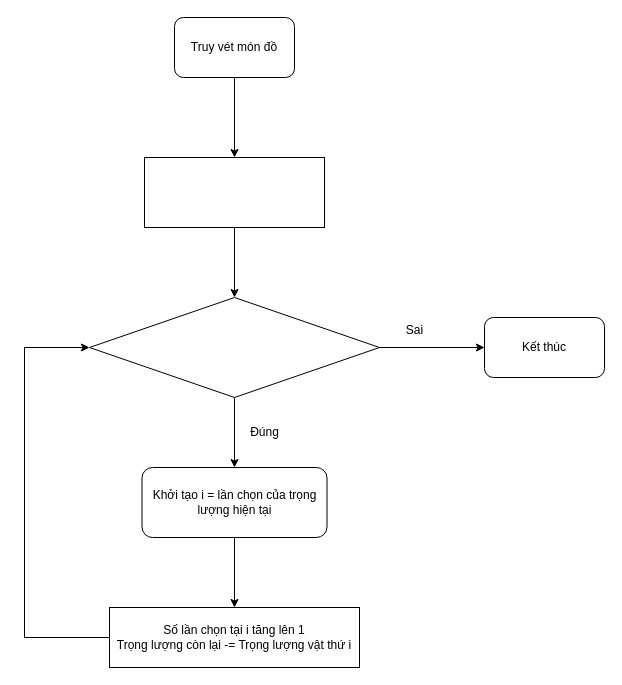
This 622x685 diagram has some shape labels left out. Here are the shapes that lost their labels. From the top down, the centre of each, then its label:
the point at 234,192: Cho trọng lượng còn lại bằng trọng lượng balo
the point at 234,347: Trọng lương còn lại > 0 && lần chọn != -1
